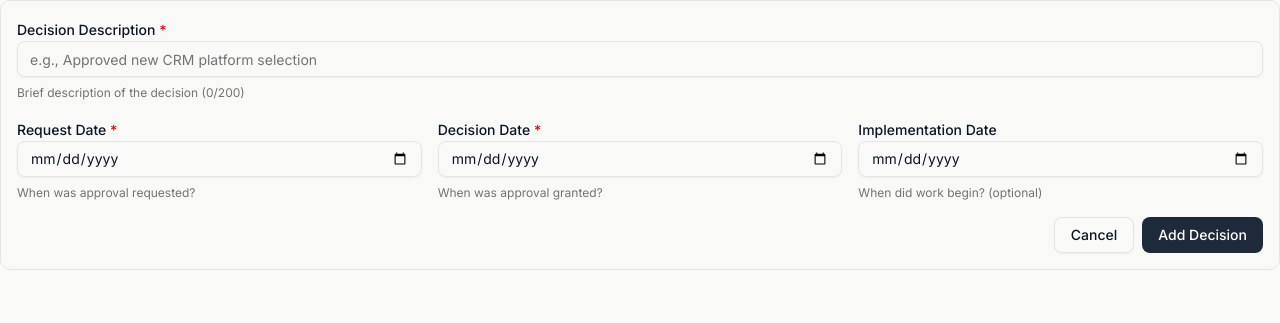
Test: DecisionSampleForm › validation › shows error when description is too short
Type "Test" into the field labelled "Decision Description *" at point(640, 59), box [17, 41, 1263, 77]
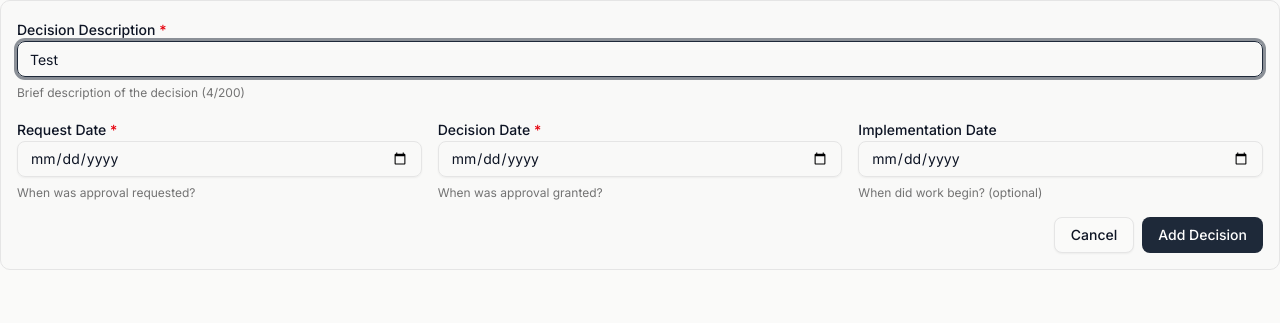
Click the button "Add Decision" at point(1203, 235), box [1142, 217, 1263, 253]
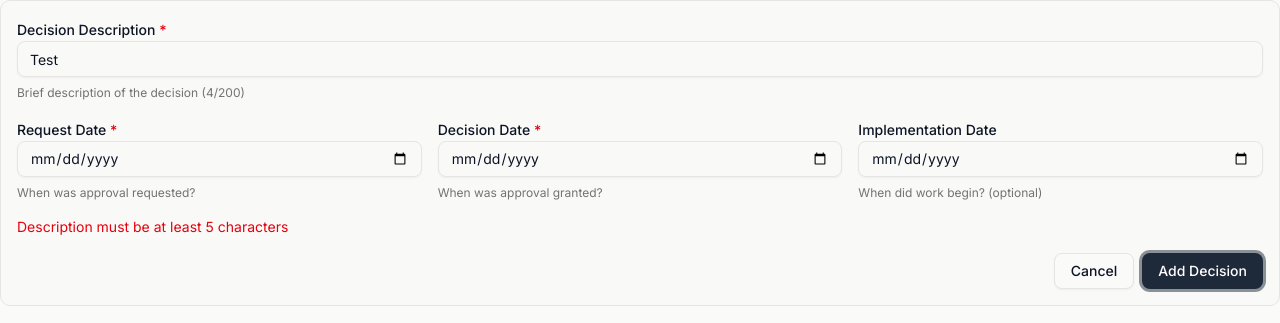
expect the message shows "at least 5 characters": met, box [17, 218, 288, 235]
